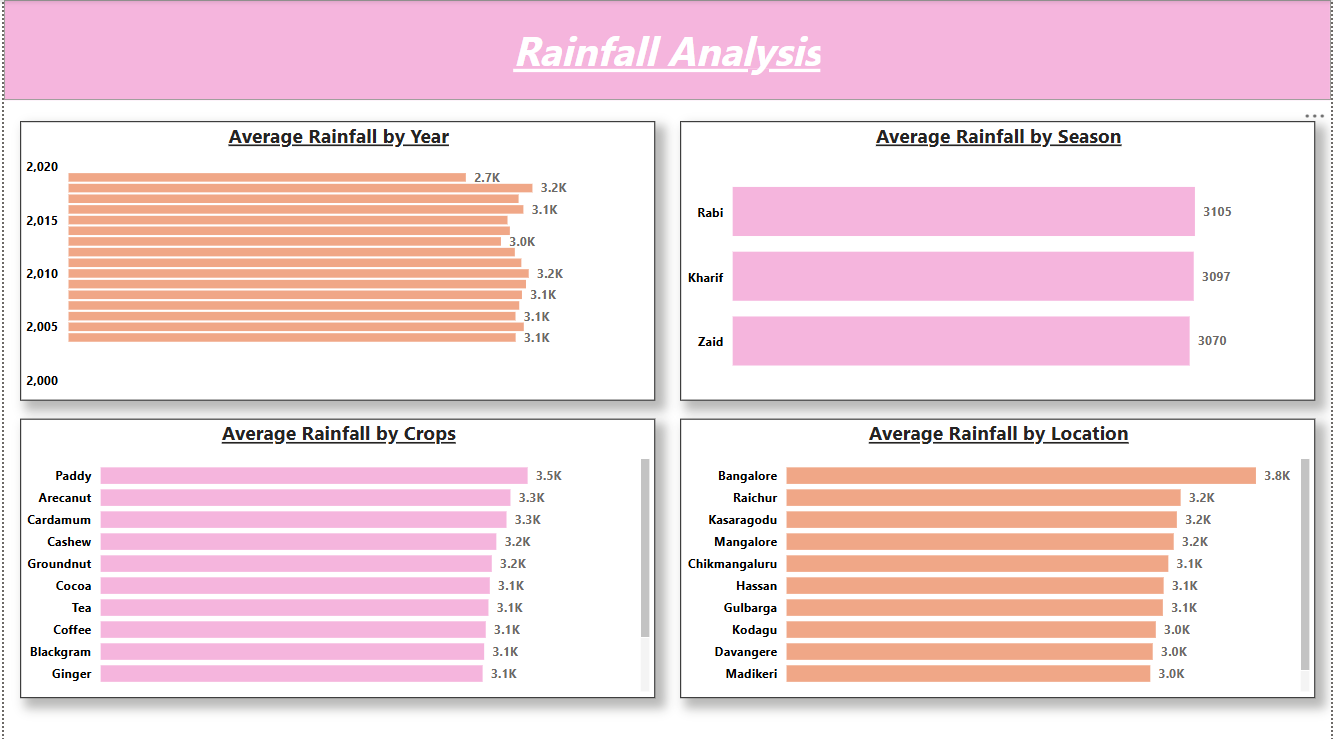

This screenshot's page, from the dashboard's own definition file:
{"tool":"powerbi","page":{"name":"Rainfall Analysis","canvas":[1280,720],"ordinal":0},"visuals":[{"type":"shape","box":[0,0,1279.7,96.7],"z":0},{"type":"barChart","title":"Average  Rainfall by Year","fields":{"Category":["AGRICULTURE.YEAR"],"Y":["Avg(AGRICULTURE.RAINFALL)"]},"box":[15.9,116.9,613.2,269.8],"z":1000},{"type":"barChart","title":"Average  Rainfall by Season","fields":{"Category":["AGRICULTURE.SEASON"],"Y":["Avg(AGRICULTURE.RAINFALL)"]},"box":[652.1,116.9,613.2,269.8],"z":2000},{"type":"barChart","title":"Average  Rainfall by Crops","fields":{"Category":["AGRICULTURE.CROPS"],"Y":["Avg(AGRICULTURE.RAINFALL)"]},"box":[15.9,404,613.2,269.8],"z":2001},{"type":"barChart","title":"Average  Rainfall by Location","fields":{"Category":["AGRICULTURE.LOCATION"],"Y":["Avg(AGRICULTURE.RAINFALL)"]},"box":[652.1,404,613.2,269.8],"z":2002}]}

Visuals, with their boxes in screenshot pixels (x1, y1, x2, y2), scaled from the page's 1280x720 canvas onto the 1333x739 screenshot:
shape: (0, 0, 1332, 99)
"Average  Rainfall by Year" barChart: (17, 120, 655, 397)
"Average  Rainfall by Season" barChart: (679, 120, 1318, 397)
"Average  Rainfall by Crops" barChart: (17, 415, 655, 692)
"Average  Rainfall by Location" barChart: (679, 415, 1318, 692)
